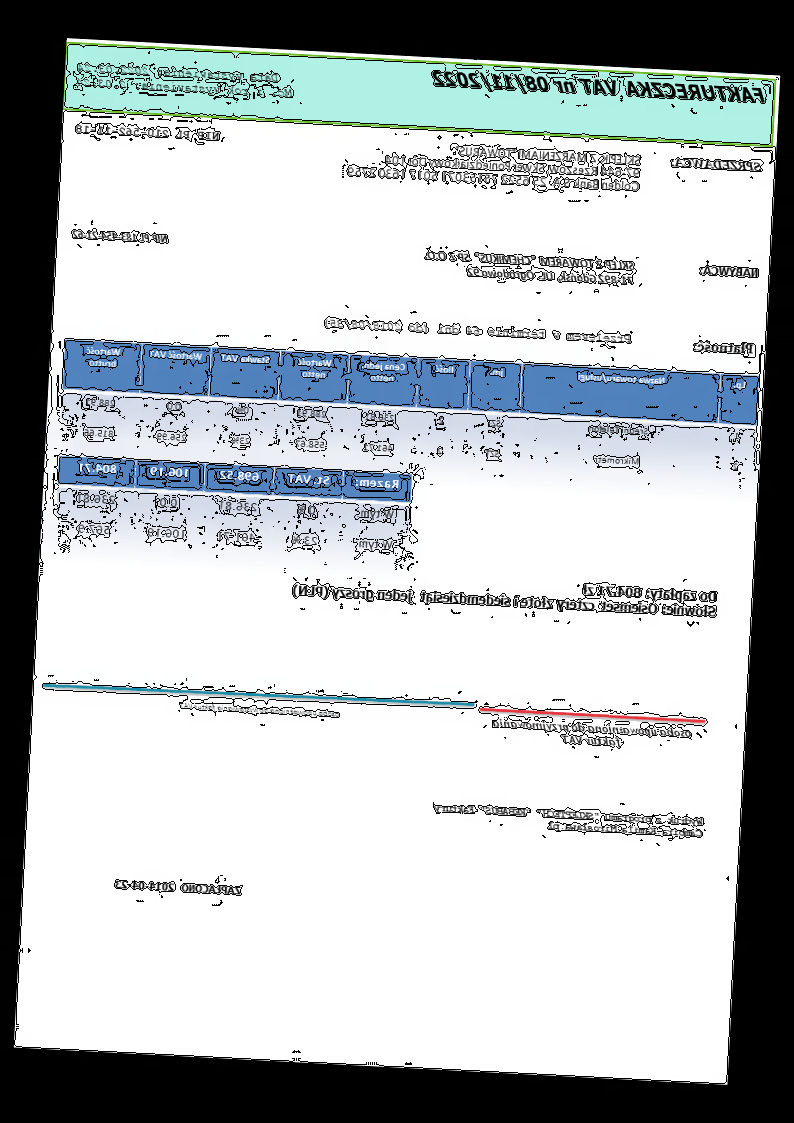Table: (59, 335, 761, 487), (52, 454, 414, 568)
TextBox: (290, 567, 721, 623), (345, 138, 644, 196), (430, 65, 770, 107), (432, 799, 706, 842), (74, 59, 297, 101), (324, 316, 634, 345), (425, 248, 637, 288), (489, 716, 695, 754), (175, 700, 343, 721), (74, 121, 223, 144), (112, 877, 244, 897), (670, 154, 765, 174), (71, 227, 172, 245), (699, 261, 762, 280), (693, 337, 756, 356)
